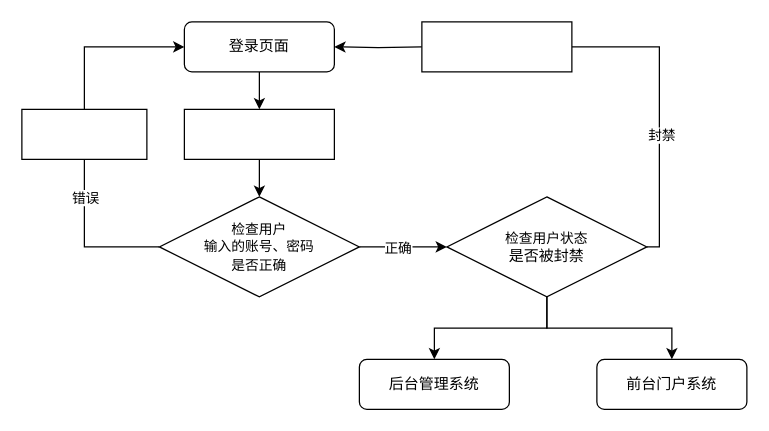
Some shapes in this 769 by 431 pixel diagram are drawn without their labels. Here are the shapes that lost their labels. From the top down, the centre of each, then its label:
At pixel 496 46: "提示用户被封禁".
At pixel 84 133: "提示 账号或密码错误".
At pixel 258 133: "用户输入账号、密码验证码".
